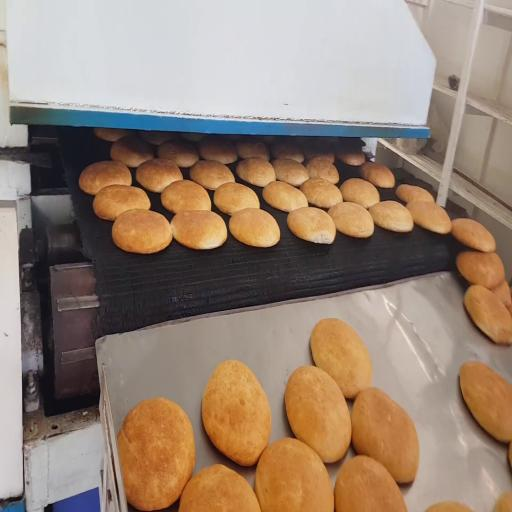bread: (118, 398, 195, 511), (202, 360, 271, 466), (352, 388, 419, 483), (285, 366, 351, 462), (255, 438, 334, 511), (310, 319, 372, 399), (459, 361, 511, 442), (335, 456, 407, 511), (179, 465, 259, 511), (464, 285, 511, 345), (112, 210, 172, 254), (171, 211, 227, 249), (93, 185, 150, 220), (229, 208, 280, 247), (456, 251, 505, 289), (287, 207, 336, 244), (79, 161, 131, 195), (161, 180, 211, 213), (328, 202, 374, 237), (136, 158, 182, 192), (407, 201, 451, 234), (214, 183, 259, 215), (452, 219, 495, 252), (110, 135, 154, 167), (369, 201, 413, 232), (263, 182, 307, 212), (190, 160, 234, 190), (300, 178, 342, 209), (340, 178, 379, 209), (236, 157, 275, 187), (158, 140, 198, 168), (199, 137, 237, 164), (272, 159, 309, 186), (306, 157, 339, 184), (361, 162, 394, 188), (396, 184, 434, 203), (272, 142, 304, 163), (236, 140, 269, 160), (304, 142, 334, 163), (139, 130, 178, 146), (491, 280, 512, 308), (94, 128, 130, 142), (337, 151, 365, 166), (426, 502, 472, 511), (495, 493, 511, 511), (180, 133, 205, 142), (224, 134, 243, 142), (260, 136, 276, 143), (509, 443, 511, 467)
